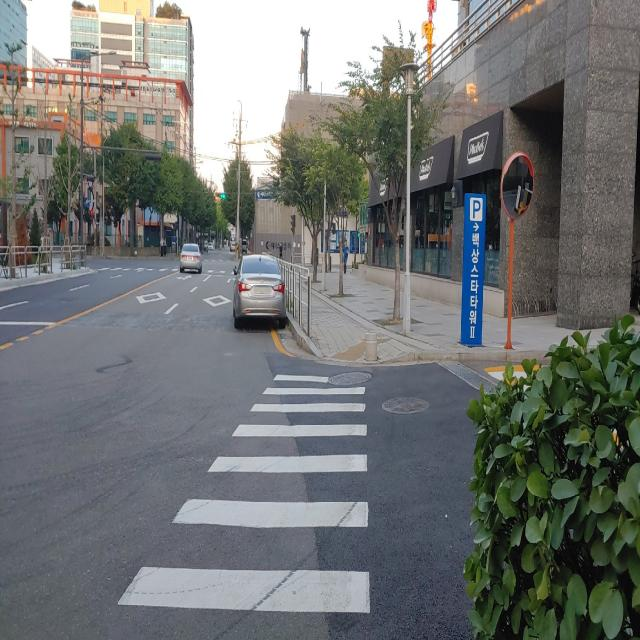횡단보도: (118, 373, 370, 614)
